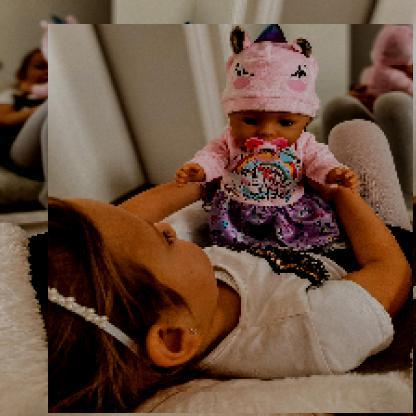child: (49, 25, 415, 415)
